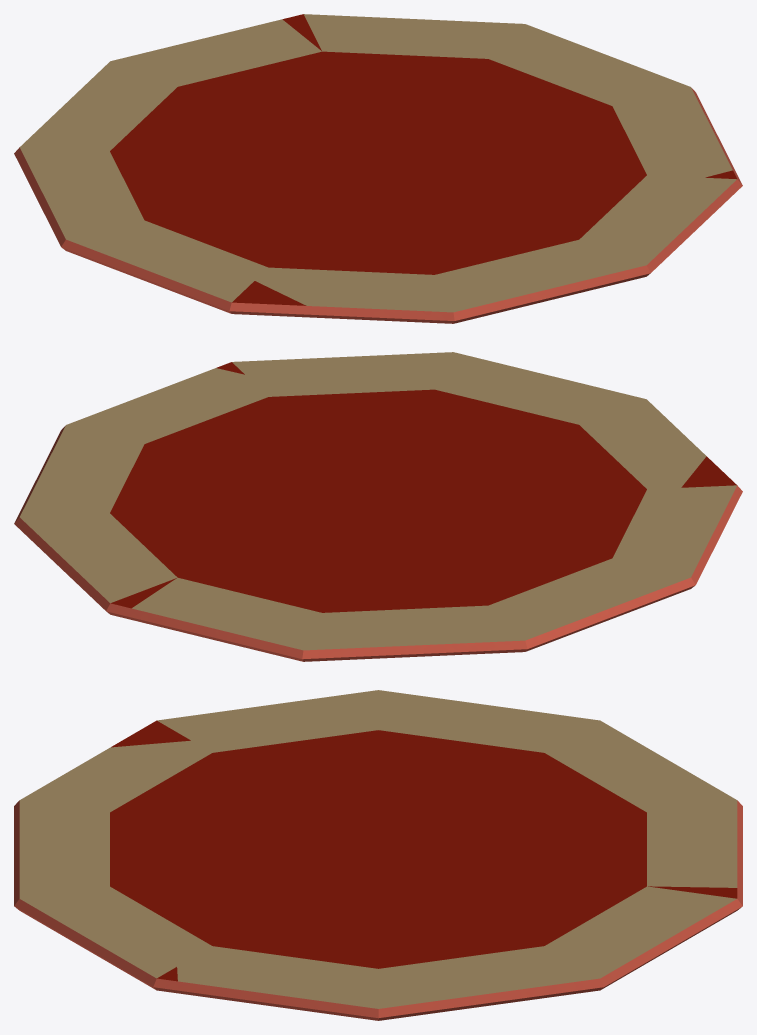
File: Carpet_2A.fbx
The picture shows the model from 3 angles, top to bottom: view 1: azimuth 30°, elevation 25°; view 2: azimuth 150°, elevation 25°; view 3: azimuth 270°, elevation 25°; orthographic projection. The views are drawn at different scales.
Visible parts, largest first — view 1: pCylinder46; view 2: pCylinder46; view 3: pCylinder46.
Part boxes in pixels (box(x1,y1,x2,y2)): pCylinder46: box(14, 14, 742, 323); pCylinder46: box(14, 352, 742, 661); pCylinder46: box(14, 690, 742, 1020).
Bounding box in the file's own units: 203 × 3.5 × 193.
